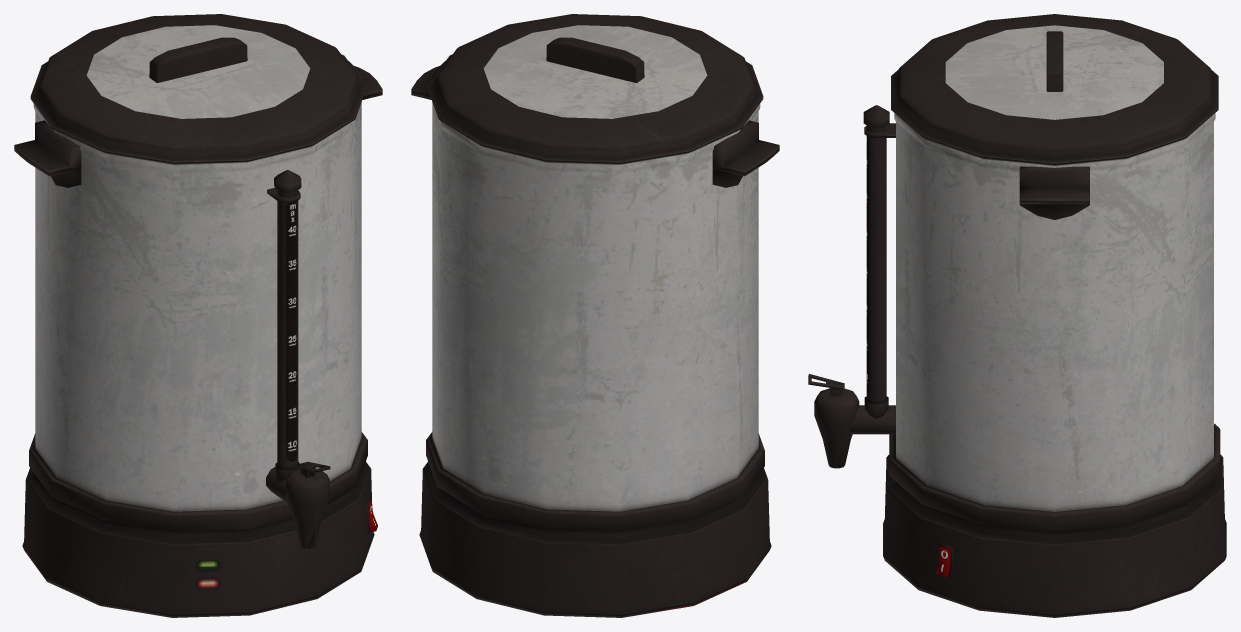
The model's file is kaffeeautomat.fbx.
3 views of the same model, side by side, from view 1: azimuth 30°, elevation 25°; view 2: azimuth 150°, elevation 25°; view 3: azimuth 270°, elevation 25° (orthographic).
Parts seen in each view (by area): view 1: coffee_machine; view 2: coffee_machine; view 3: coffee_machine.
Part boxes in pixels (x1,y1,x2,y2): coffee_machine: (14, 14, 382, 617); coffee_machine: (411, 14, 779, 617); coffee_machine: (808, 14, 1226, 617).
Bounding box in the file's own units: 33.91 × 47.19 × 36.
